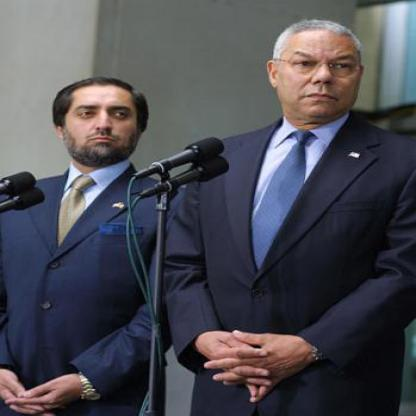face: (276, 21, 366, 120), (64, 80, 141, 166)
